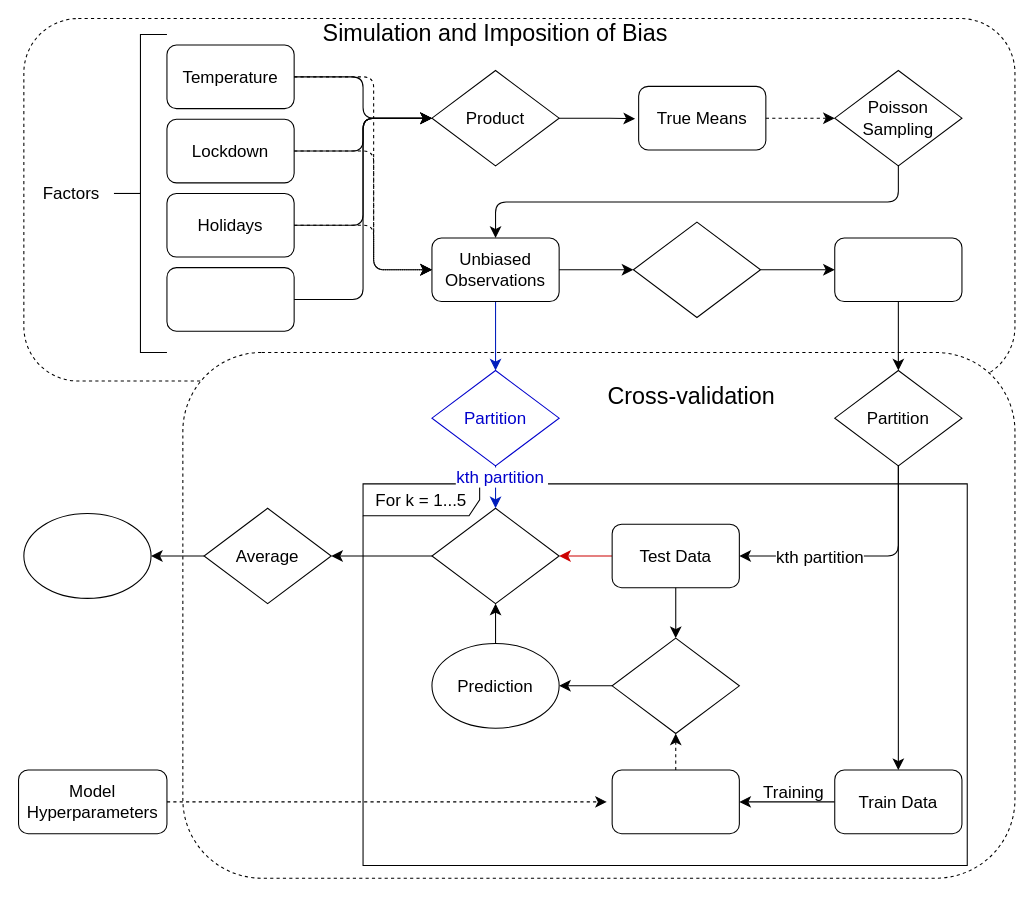
This 1034x897 diagram has some shape labels left out. The shapes that lost their labels are listed below. From the top down, each one's centre as x and y in pixels, then its label:
point 696,269: Modify, Remove
point 898,269: Biased Observations
point 230,299: Stochasticity
point 87,555: Average Score
point 495,555: Compare, Evaluate
point 675,685: Predict
point 675,801: Trained Model
